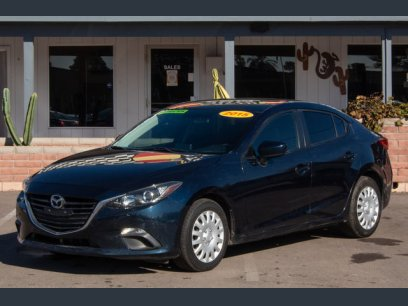Mazda3 Hatchback: (15, 98, 393, 273)
